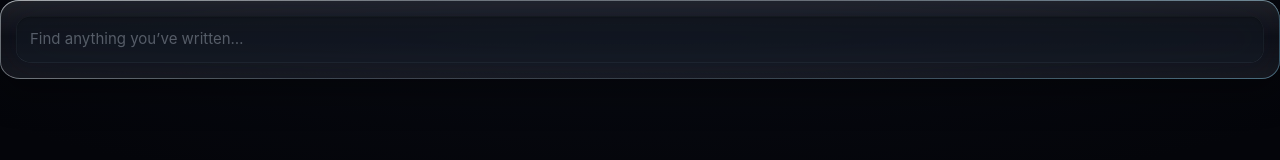
Test: what each result lets you do › says so when nothing holds those words
Type "zeppelin" into the search field named "Find a thought". click: (640, 39)
box: [16,16,1264,62]
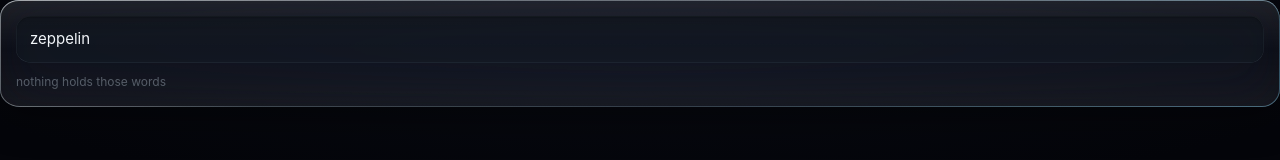
Expected: the message reads "nothing holds those words", [16,74,166,88]
